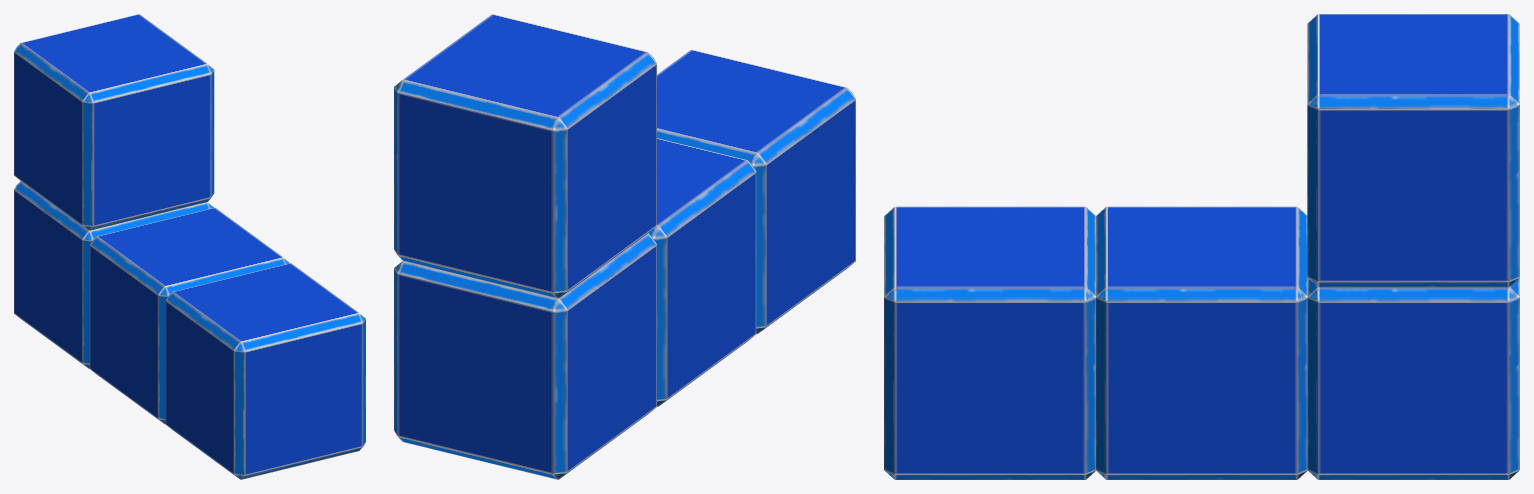
The model's file is Dark Blue Block.fbx.
3 renders of one model, left to right at view 1: azimuth 30°, elevation 25°; view 2: azimuth 150°, elevation 25°; view 3: azimuth 270°, elevation 25°, orthographic. The views are drawn at different scales.
Visible parts, largest first — view 1: pCube37; view 2: pCube37; view 3: pCube37.
Part boxes in pixels (x1,y1,x2,y2): pCube37: [14, 14, 365, 479]; pCube37: [394, 14, 855, 479]; pCube37: [884, 14, 1519, 479].
Bounding box in the file's own units: 1 × 2 × 2.99.
